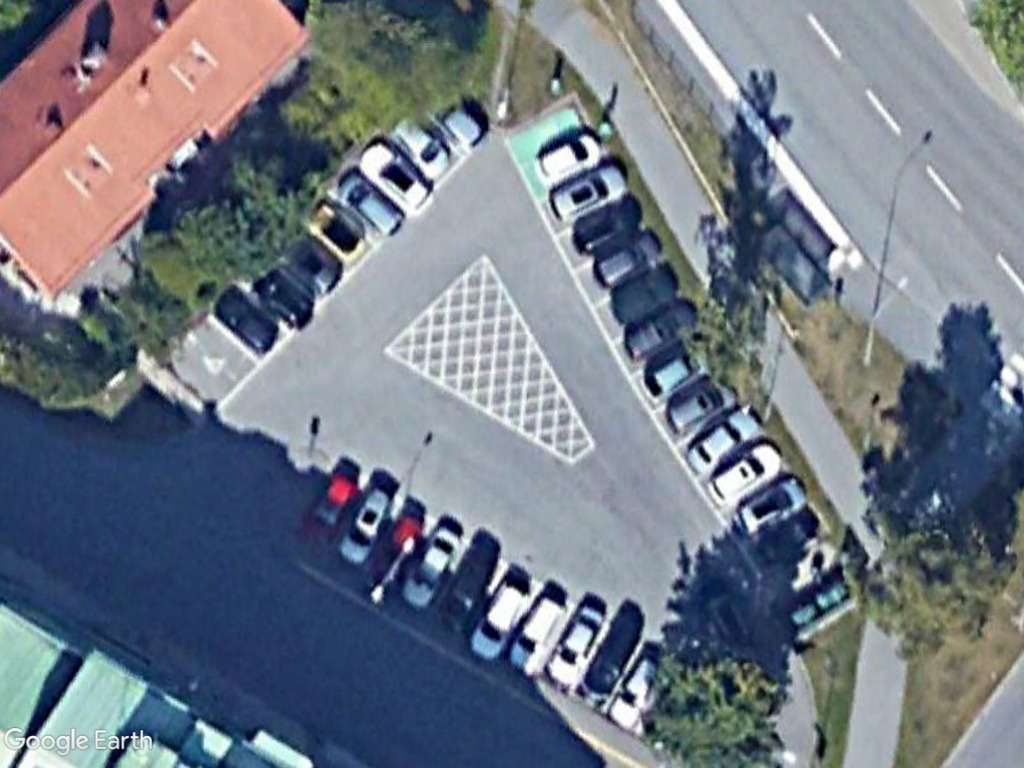car: (352, 138, 440, 219), (397, 517, 464, 617), (464, 571, 534, 659), (702, 437, 784, 510), (684, 404, 764, 478), (544, 160, 632, 227), (542, 603, 609, 690), (292, 461, 362, 544), (331, 167, 410, 240), (620, 293, 701, 363), (661, 371, 741, 439), (504, 590, 570, 672), (334, 481, 394, 571), (212, 286, 285, 358), (566, 192, 643, 259), (589, 223, 665, 290), (387, 110, 454, 183), (639, 339, 714, 401), (530, 130, 606, 189)
